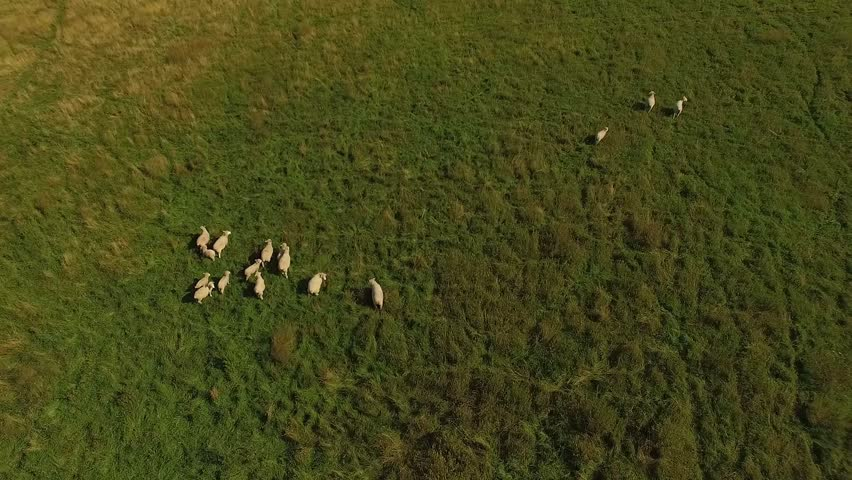sheep: (365, 276, 387, 312), (212, 230, 232, 258), (193, 280, 215, 304), (277, 245, 292, 280), (307, 271, 327, 296), (260, 236, 275, 267), (252, 270, 266, 301), (672, 94, 688, 119)
